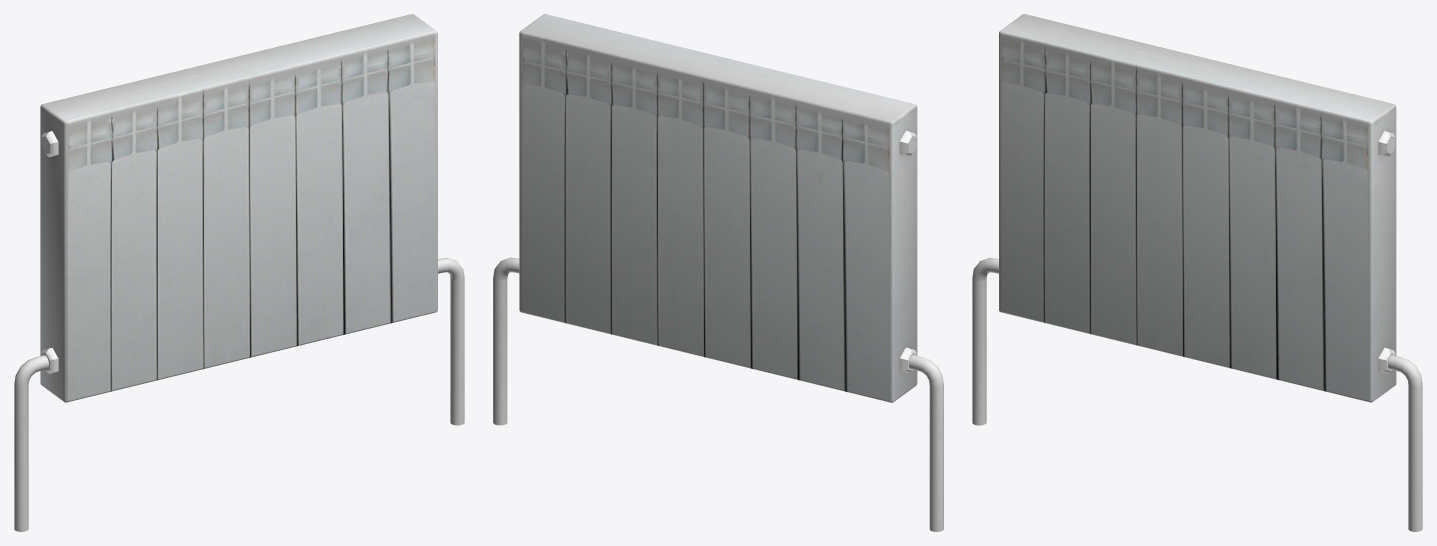
File: Radiator01.FBX
The picture shows the model from 3 angles, left to right: view 1: azimuth 30°, elevation 25°; view 2: azimuth 150°, elevation 25°; view 3: azimuth 330°, elevation 25°; orthographic projection.
Parts seen in each view (by area): view 1: Radiator01_LOD0; view 2: Radiator01_LOD0; view 3: Radiator01_LOD0.
Part boxes in pixels (bbox=[...]): Radiator01_LOD0: bbox=[14, 14, 464, 531]; Radiator01_LOD0: bbox=[493, 14, 943, 531]; Radiator01_LOD0: bbox=[972, 14, 1422, 531].
Size of what is drawn, in the model's own units: 0.9607 by 0.8344 by 0.0941.
